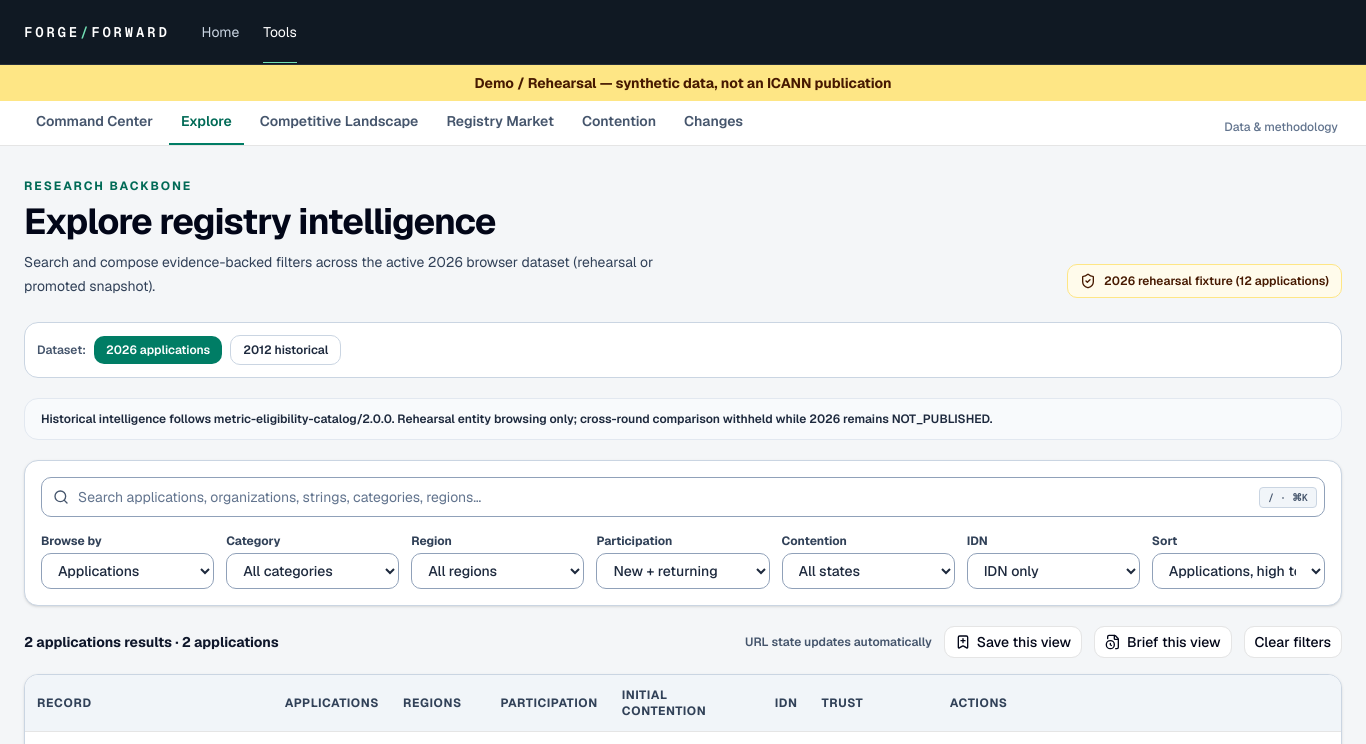
Test: Saved hub — Saved Research › saves an Explore view, reopens it with restored filters, and supports duplicate/rename/delete
Click the button "Save this view" at (1013, 642), box left=944, top=626, right=1082, bottom=658
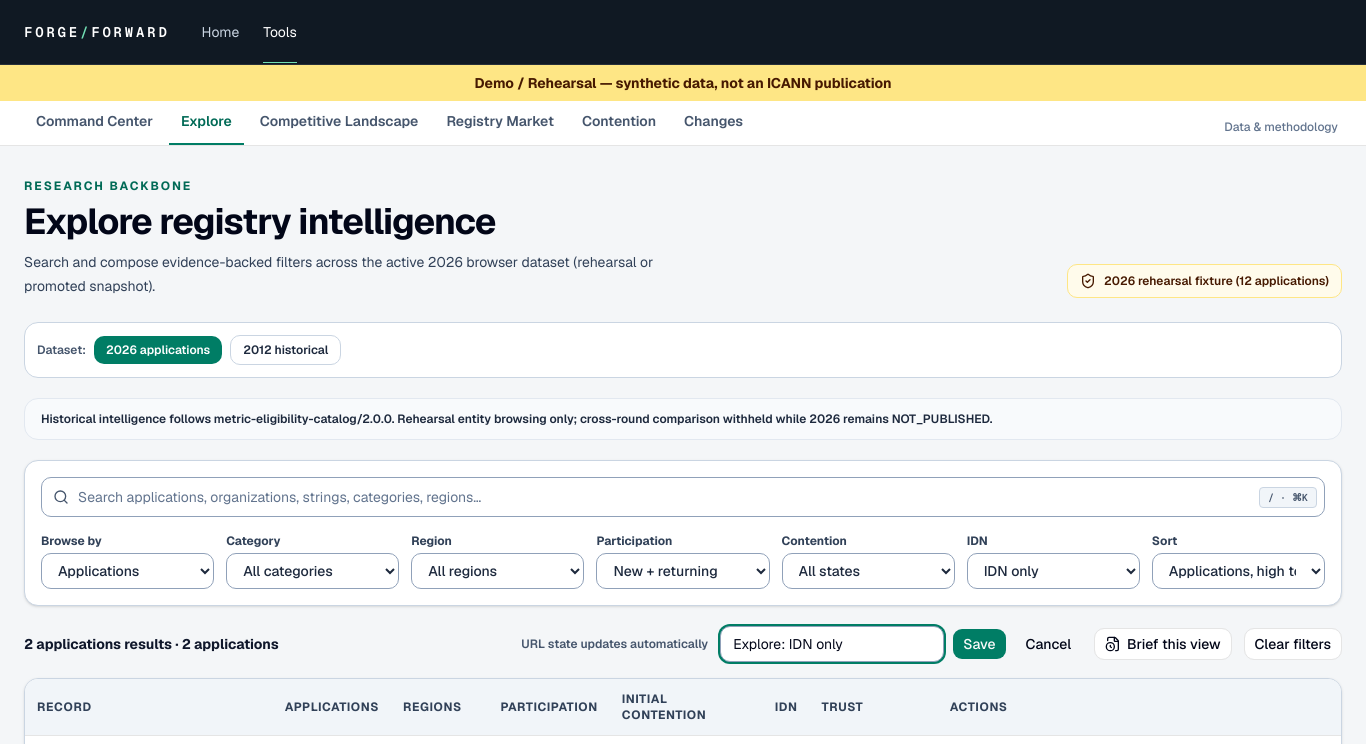
Click the button "Save" at (979, 644), box left=952, top=628, right=1006, bottom=660
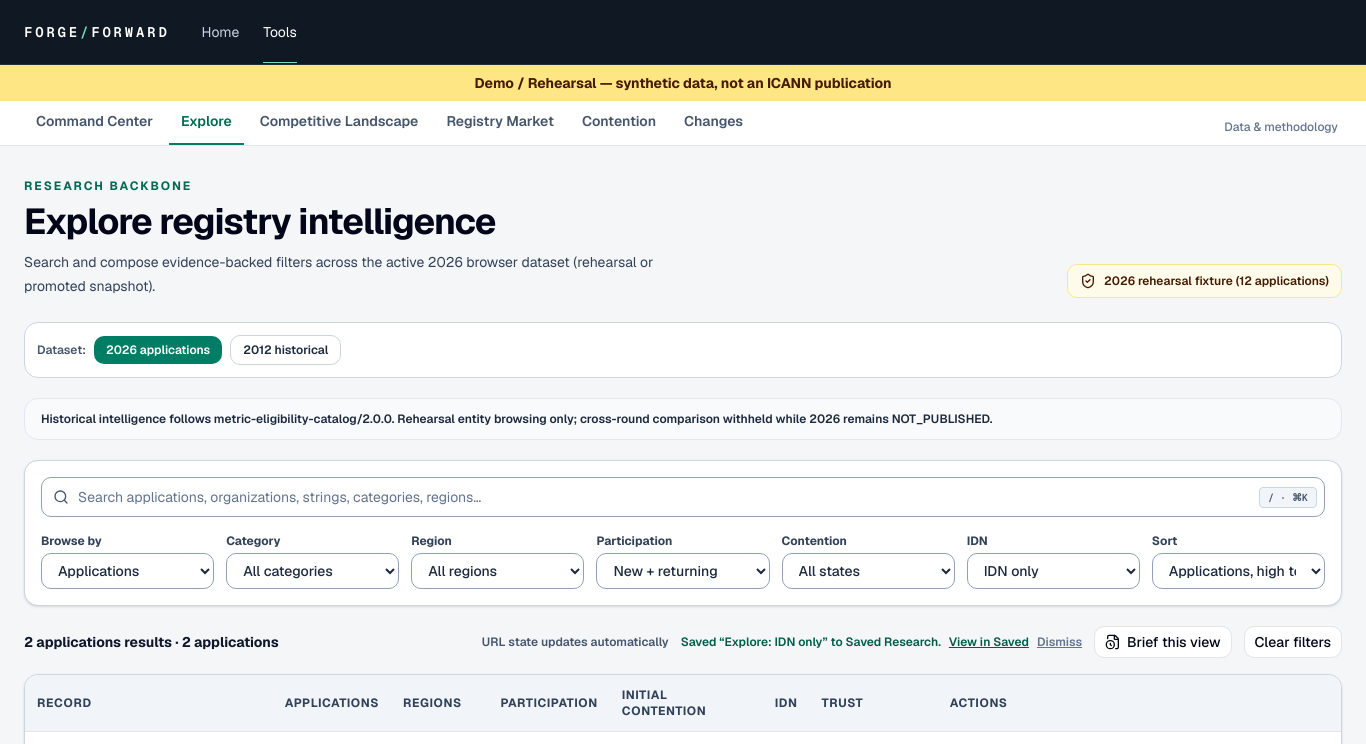
Now the text "Saved “Explore: IDN only” to Saved Research. View in Saved Dismiss" is shown, box left=681, top=634, right=1082, bottom=650
